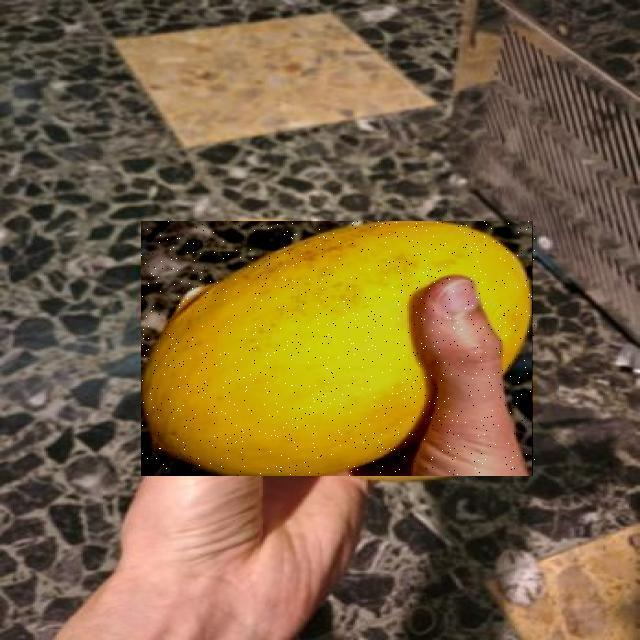Honey Dew: (142, 221, 536, 476)
